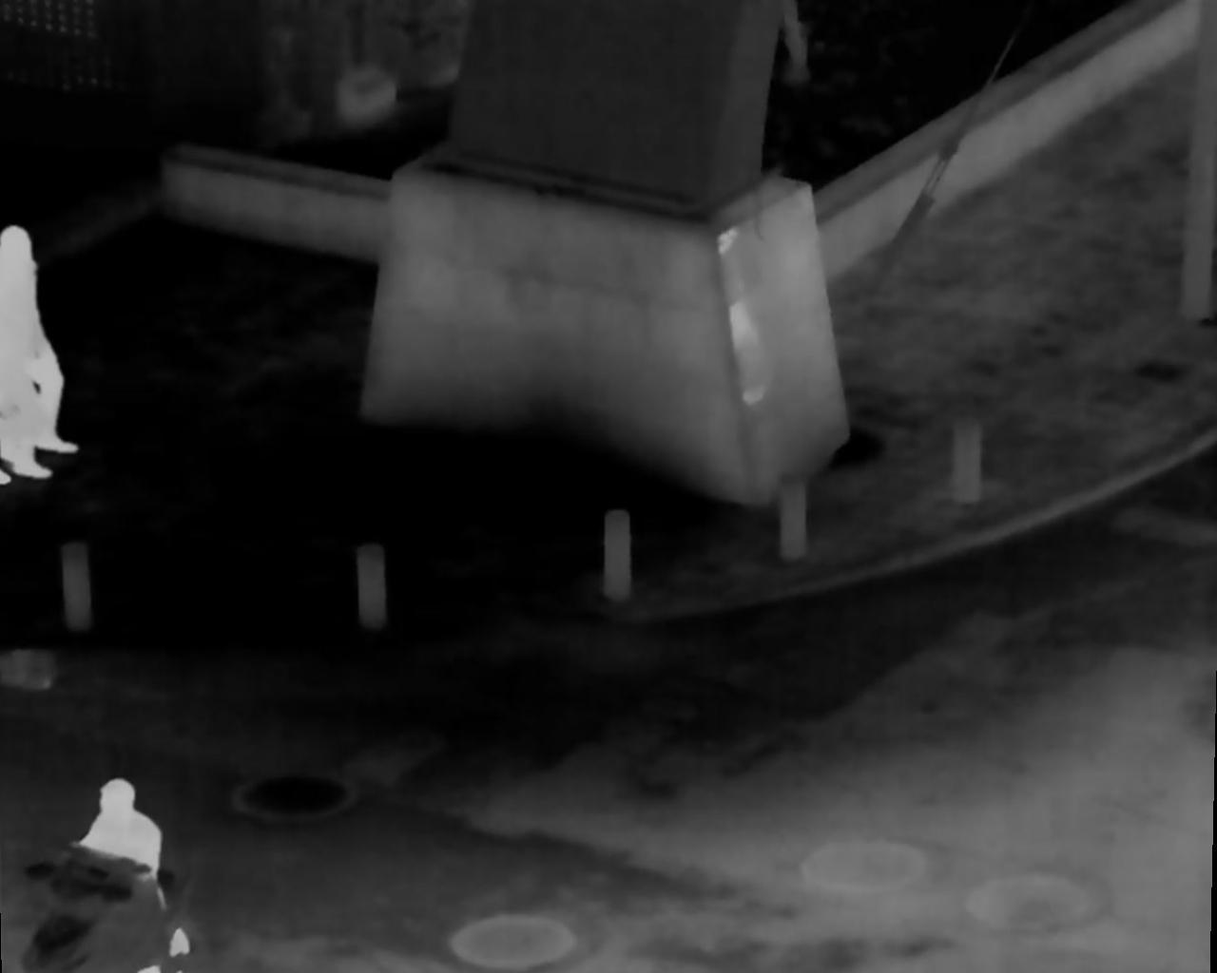person: (73, 776, 183, 963), (2, 217, 81, 450)
